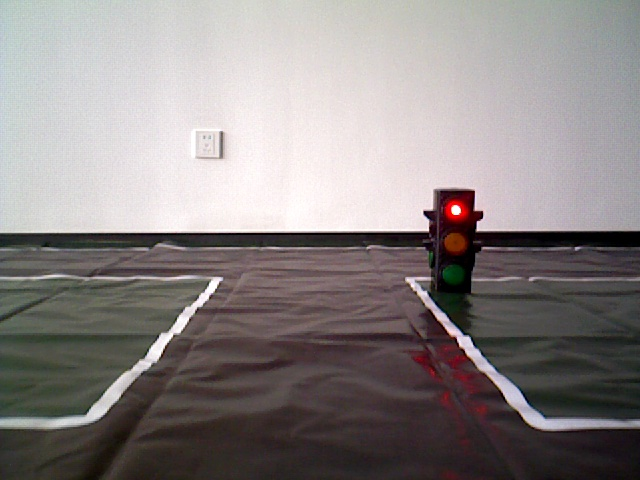red: (433, 190, 472, 288)
